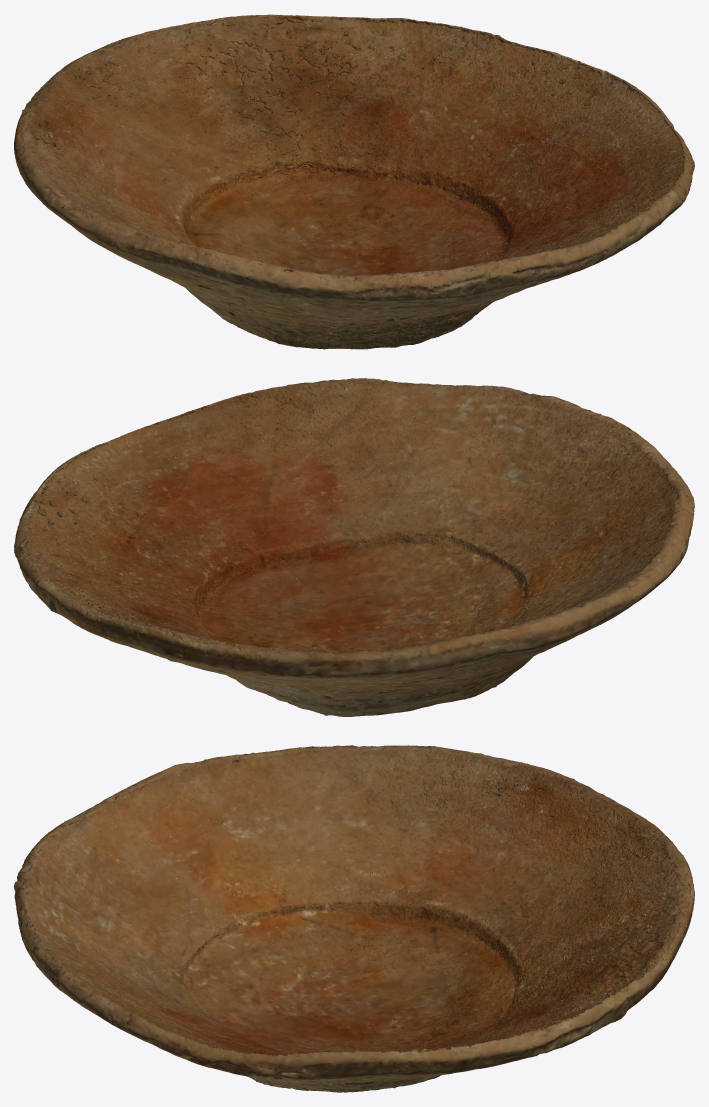
The picture shows the model from 3 angles, top to bottom: view 1: azimuth 30°, elevation 25°; view 2: azimuth 150°, elevation 25°; view 3: azimuth 270°, elevation 25°; orthographic projection.
Parts seen in each view (by area): view 1: Mesh_0.010; view 2: Mesh_0.010; view 3: Mesh_0.010.
Boxes of the visible parts, <box> form: Mesh_0.010: <box>14,14,694,349</box>; Mesh_0.010: <box>14,378,694,716</box>; Mesh_0.010: <box>14,745,694,1092</box>.
Bounding box in the file's own units: 0.226 × 0.0586 × 0.2254.
Materials: 1 (1 with a texture image).
